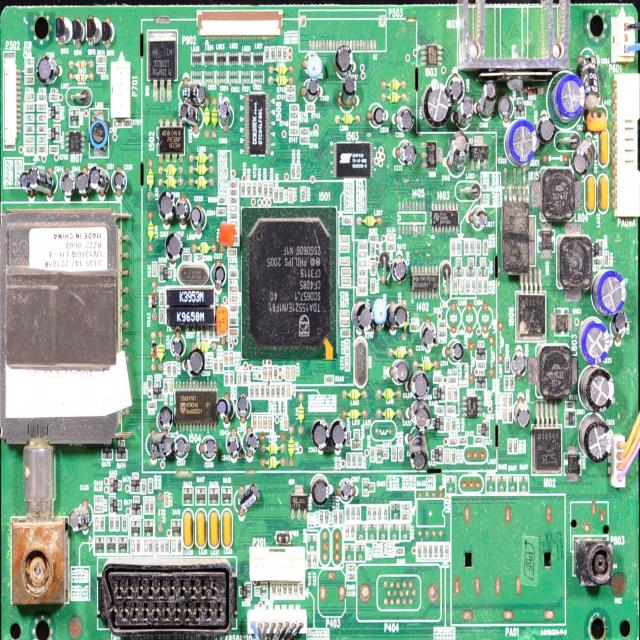Capacitor Jumper: (25, 136, 34, 144), (345, 358, 350, 371), (252, 416, 257, 429), (342, 277, 350, 285), (25, 77, 34, 84), (340, 245, 349, 252), (113, 120, 123, 126), (286, 383, 290, 398), (503, 409, 507, 424), (258, 416, 262, 431), (263, 416, 267, 431), (345, 340, 349, 354), (169, 380, 173, 394), (229, 286, 238, 292), (503, 393, 507, 406), (340, 320, 350, 325), (341, 236, 348, 243), (26, 94, 34, 100), (229, 206, 237, 212), (341, 258, 349, 264), (342, 270, 350, 276), (263, 368, 267, 380), (286, 366, 289, 381), (289, 188, 292, 202), (230, 296, 237, 302), (228, 250, 236, 255), (230, 352, 233, 365), (269, 367, 272, 380), (291, 367, 294, 380), (153, 264, 156, 276), (225, 353, 228, 365), (448, 388, 451, 400), (284, 416, 287, 428), (269, 418, 272, 430), (446, 419, 449, 431), (446, 450, 449, 462), (341, 312, 348, 317), (230, 330, 237, 335)
Connector: (0, 203, 119, 516), (98, 560, 235, 638), (614, 73, 640, 220), (198, 14, 284, 35), (4, 51, 19, 150), (111, 61, 132, 119)
IC: (248, 217, 332, 346), (529, 399, 564, 474), (515, 266, 547, 344), (146, 29, 179, 102), (174, 384, 219, 430), (244, 94, 271, 157), (332, 142, 373, 178), (157, 119, 186, 163), (411, 265, 439, 299), (432, 203, 460, 232), (420, 44, 443, 67), (64, 134, 86, 154)
Resistor Jumper: (458, 278, 464, 297), (298, 582, 304, 600), (470, 276, 476, 294), (401, 502, 411, 512), (344, 505, 350, 521), (382, 505, 388, 521), (400, 512, 412, 520), (122, 515, 128, 531), (344, 522, 350, 538), (300, 186, 306, 202), (142, 538, 148, 553), (422, 543, 428, 558), (464, 279, 470, 294), (452, 280, 458, 295), (324, 375, 334, 384), (94, 495, 103, 504), (94, 505, 104, 513), (372, 505, 377, 521), (433, 543, 438, 559), (445, 544, 450, 560), (276, 582, 281, 598), (271, 583, 276, 599), (450, 239, 455, 255), (482, 278, 487, 294), (282, 46, 287, 61), (312, 553, 317, 568), (470, 240, 475, 255), (288, 583, 292, 601), (97, 65, 106, 73), (148, 539, 153, 553), (416, 543, 421, 557), (296, 163, 301, 177), (268, 183, 273, 197), (148, 479, 153, 493), (282, 582, 286, 599), (246, 182, 251, 195), (260, 385, 265, 398), (513, 440, 518, 453), (110, 515, 114, 531), (350, 522, 354, 538), (172, 538, 176, 554), (160, 538, 164, 554), (346, 564, 354, 572), (346, 574, 354, 582), (294, 584, 298, 600), (290, 112, 298, 120), (290, 128, 298, 136), (456, 239, 460, 255), (477, 278, 481, 294), (96, 56, 105, 63), (50, 94, 59, 101), (289, 104, 298, 111), (305, 105, 314, 112), (355, 506, 360, 518), (100, 516, 104, 531), (155, 539, 159, 554), (439, 543, 443, 558), (36, 116, 46, 122), (299, 137, 309, 143), (291, 165, 296, 177), (476, 240, 480, 255), (484, 241, 488, 256), (229, 372, 234, 384), (164, 379, 168, 394), (142, 479, 146, 494), (144, 498, 148, 512), (367, 506, 371, 520), (338, 511, 342, 525), (115, 516, 119, 530), (94, 516, 98, 530), (278, 46, 282, 60), (136, 539, 140, 553), (428, 542, 432, 556), (25, 58, 33, 65), (286, 86, 294, 93), (38, 94, 46, 101), (230, 182, 238, 189), (264, 184, 268, 198), (230, 190, 238, 197), (274, 188, 278, 202), (279, 188, 283, 202), (218, 197, 226, 204), (342, 217, 350, 224), (359, 242, 366, 250), (464, 240, 468, 254), (387, 243, 395, 250), (371, 243, 375, 257), (371, 279, 375, 293), (276, 384, 280, 398), (148, 402, 156, 409), (123, 120, 132, 126), (37, 126, 46, 132), (300, 129, 309, 135), (25, 147, 34, 153), (378, 506, 382, 519), (325, 511, 329, 524), (271, 48, 275, 61), (219, 360, 223, 373), (167, 362, 171, 375), (148, 377, 152, 390), (508, 440, 512, 453), (150, 498, 153, 514), (176, 540, 180, 552), (307, 554, 311, 566), (287, 94, 295, 100), (38, 104, 46, 110), (290, 120, 298, 126), (38, 146, 46, 152), (230, 198, 238, 204), (217, 209, 225, 215), (230, 213, 238, 219), (358, 252, 366, 258), (594, 259, 602, 265), (358, 261, 366, 267), (358, 269, 366, 275), (341, 330, 349, 336), (438, 331, 446, 337), (214, 360, 218, 372), (274, 367, 278, 379), (243, 371, 247, 383), (224, 372, 228, 384), (281, 385, 285, 397), (271, 385, 275, 397), (255, 386, 259, 398), (566, 402, 574, 408), (351, 505, 354, 520), (131, 539, 134, 554), (258, 181, 261, 196), (165, 538, 168, 552), (26, 126, 33, 132), (242, 182, 245, 196), (371, 262, 374, 276), (230, 271, 237, 277), (230, 306, 237, 312), (173, 362, 176, 376), (25, 68, 33, 73), (26, 105, 34, 110), (50, 147, 58, 152), (358, 287, 366, 292), (230, 319, 238, 324), (266, 47, 269, 60), (253, 183, 256, 196), (605, 252, 608, 265), (250, 385, 253, 398), (334, 512, 337, 524), (320, 512, 323, 524), (369, 236, 378, 240), (238, 372, 241, 384), (266, 385, 269, 397), (38, 137, 45, 142), (438, 322, 445, 327), (26, 116, 33, 120), (359, 279, 366, 283)
Transistor: (419, 140, 443, 171), (470, 137, 488, 173), (129, 472, 141, 494), (130, 496, 142, 517), (101, 440, 113, 460), (109, 496, 122, 514), (239, 583, 252, 601), (48, 103, 61, 121), (116, 439, 127, 460), (109, 475, 121, 494), (129, 519, 141, 537), (221, 488, 232, 506), (515, 99, 526, 117), (49, 124, 60, 142), (144, 519, 154, 537), (196, 487, 206, 504), (209, 488, 219, 505), (183, 488, 193, 504), (592, 241, 603, 255), (172, 519, 181, 535)
